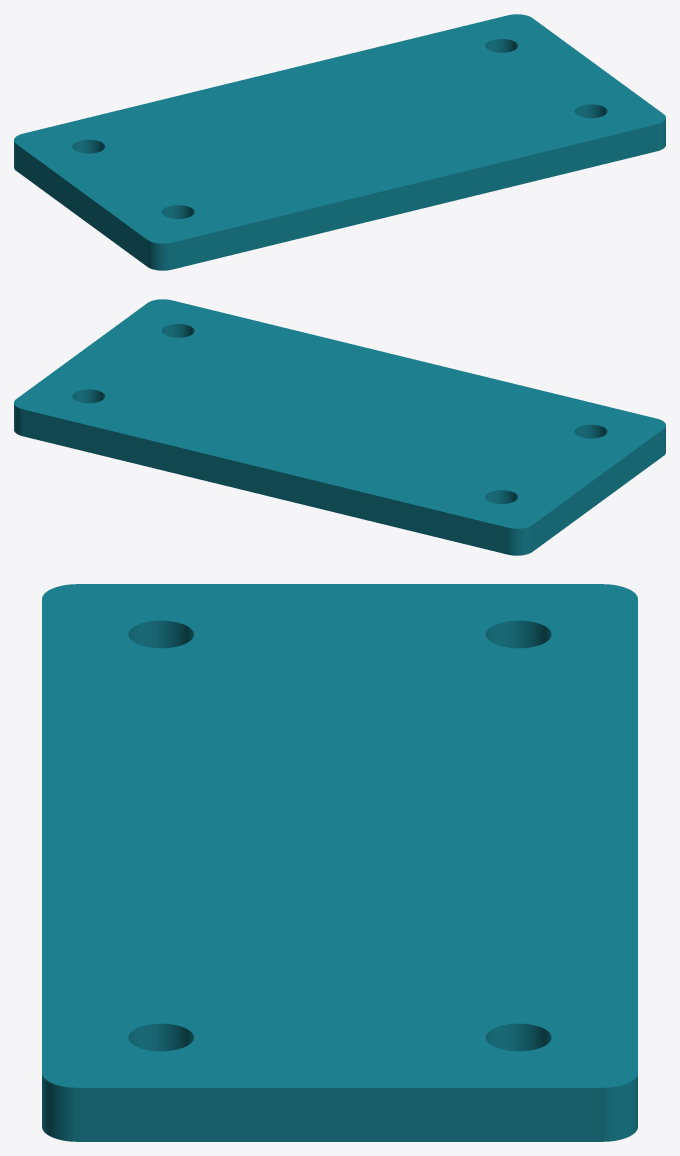
Rendered from mounting_plate_wide.glb.
3 views of the same model, one above another, from view 1: azimuth 30°, elevation 25°; view 2: azimuth 150°, elevation 25°; view 3: azimuth 270°, elevation 25° (orthographic). The views are drawn at different scales.
Parts seen in each view (by area): view 1: mounting_plate_wide; view 2: mounting_plate_wide; view 3: mounting_plate_wide.
Part boxes in pixels (x1,y1,x2,y2): mounting_plate_wide: (14,14,665,270); mounting_plate_wide: (14,299,665,555); mounting_plate_wide: (42,584,637,1141).
Size of the model in its own units: 0.1 by 0.005 by 0.05.
